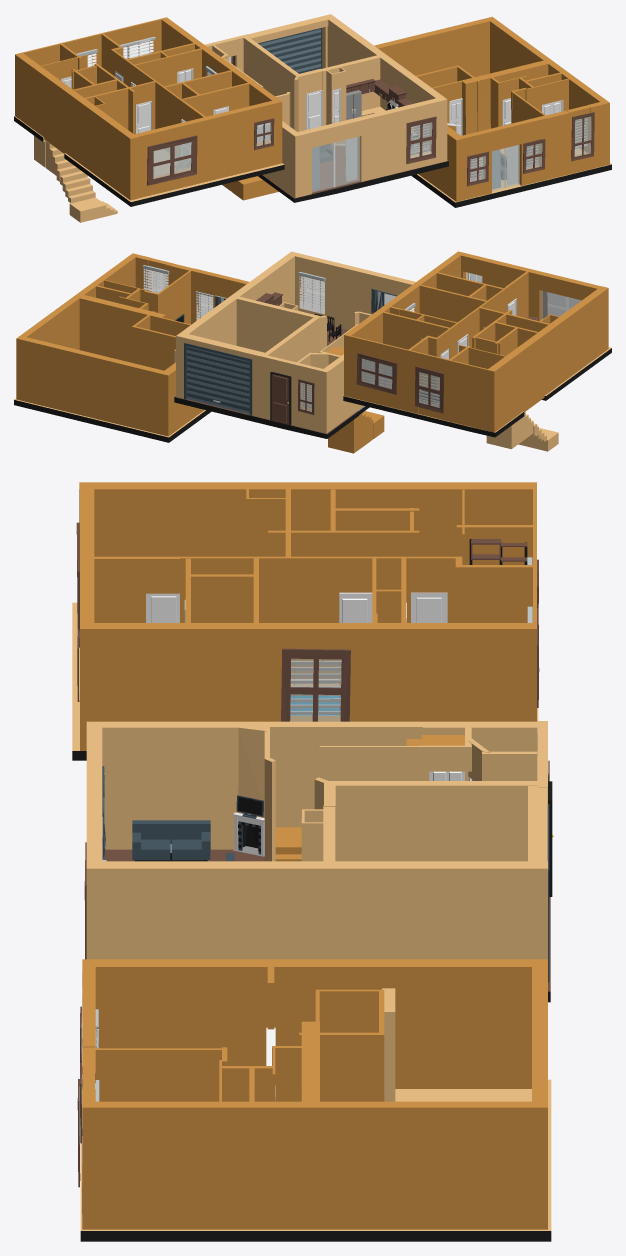
Rendered from house-interiors.glb.
The picture shows the model from 3 angles, top to bottom: view 1: azimuth 30°, elevation 25°; view 2: azimuth 150°, elevation 25°; view 3: azimuth 270°, elevation 25°; orthographic projection. The views are drawn at different scales.
Parts seen in each view (by area): view 1: group379263024, group530085485, group1913084164, group495296466, group926669251, group307745849, group2080810550, group1643865836, group9161348, group2086210920, group118787976, group1838945717 (+11 smaller); view 2: group379263024, group530085485, group495296466, group1913084164, group9161348, group926669251, group2080810550, group359096643, group951913594, group181332527, group1904967002, group786249837 (+13 smaller); view 3: group530085485, group379263024, group495296466, group926669251, group2086210920, group1253599739, group696643633, group359096643, group1749033926, group623371997, group75932193, group615572843 (+8 smaller).
Part boxes in pixels (<box>): group379263024: <box>14,17,284,206</box>; group530085485: <box>374,16,611,207</box>; group1913084164: <box>357,96,447,181</box>; group495296466: <box>327,14,443,151</box>; group926669251: <box>243,36,302,131</box>; group307745849: <box>312,136,359,192</box>; group2080810550: <box>258,143,448,202</box>; group1643865836: <box>298,117,362,196</box>; group9161348: <box>321,55,380,125</box>; group2086210920: <box>263,121,301,197</box>; group118787976: <box>406,116,436,164</box>; group1838945717: <box>248,15,332,43</box>; group379263024: <box>343,251,611,439</box>; group530085485: <box>14,253,249,442</box>; group495296466: <box>176,254,294,398</box>; group1913084164: <box>288,251,376,330</box>; group9161348: <box>236,296,294,352</box>; group926669251: <box>263,315,320,362</box>; group2080810550: <box>174,327,359,438</box>; group359096643: <box>324,354,357,431</box>; group951913594: <box>187,361,249,393</box>; group181332527: <box>259,354,292,419</box>; group1904967002: <box>270,371,291,425</box>; group786249837: <box>290,361,316,430</box>; group530085485: <box>77,959,551,1241</box>; group379263024: <box>72,482,539,760</box>; group495296466: <box>88,861,547,959</box>; group926669251: <box>324,781,537,861</box>; group2086210920: <box>86,721,267,849</box>; group1253599739: <box>268,721,338,827</box>; group696643633: <box>132,820,210,861</box>; group359096643: <box>422,721,537,751</box>; group1749033926: <box>330,721,422,745</box>; group623371997: <box>238,724,266,817</box>; group75932193: <box>360,746,425,780</box>; group615572843: <box>482,751,537,780</box>.
Bounding box in the file's own units: 8.46 × 2.49 × 3.69.
